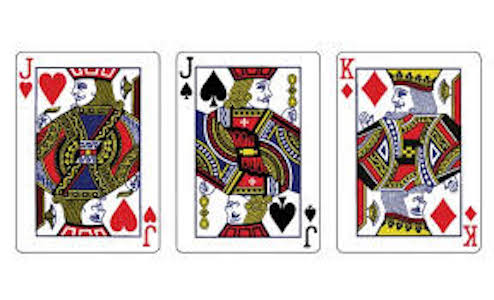JackOfHearts: (11, 47, 165, 258)
JackOfSpades: (169, 44, 324, 258)
KingOfDiamonds: (332, 48, 488, 257)
